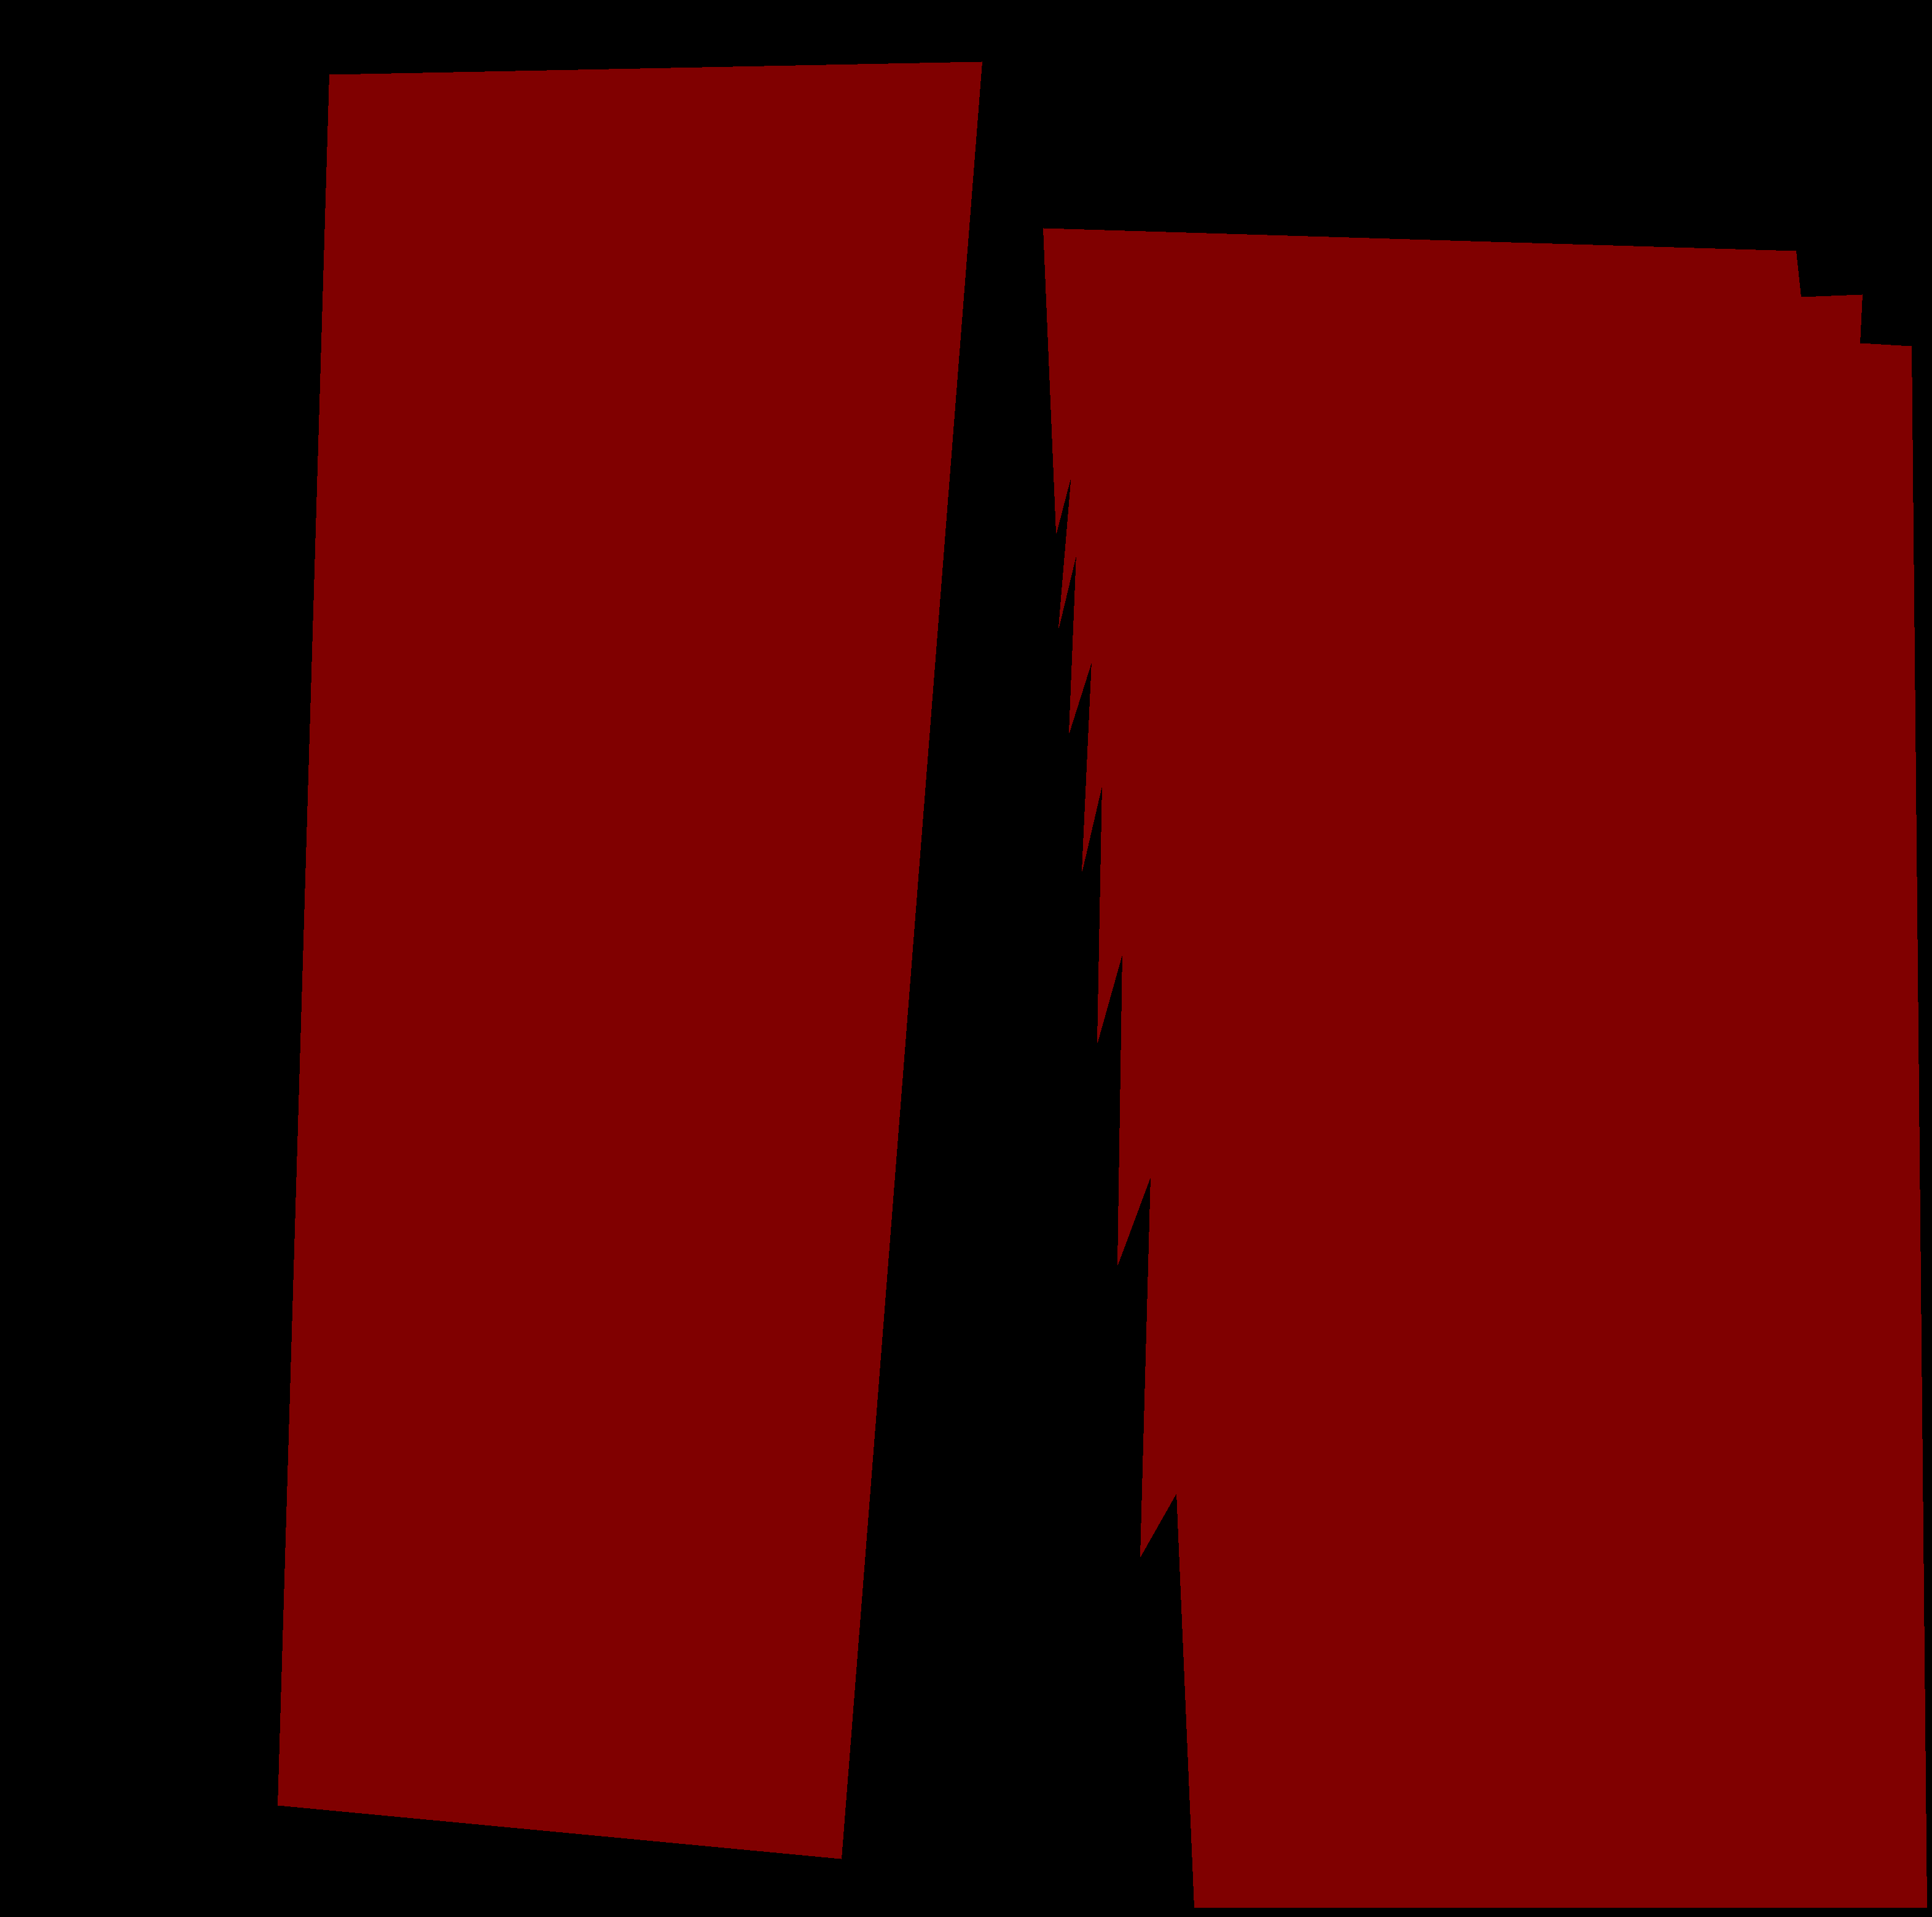stair: (1042, 228, 1927, 1906), (277, 61, 981, 1859)
